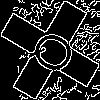Q: (25, 25, 87, 83)
